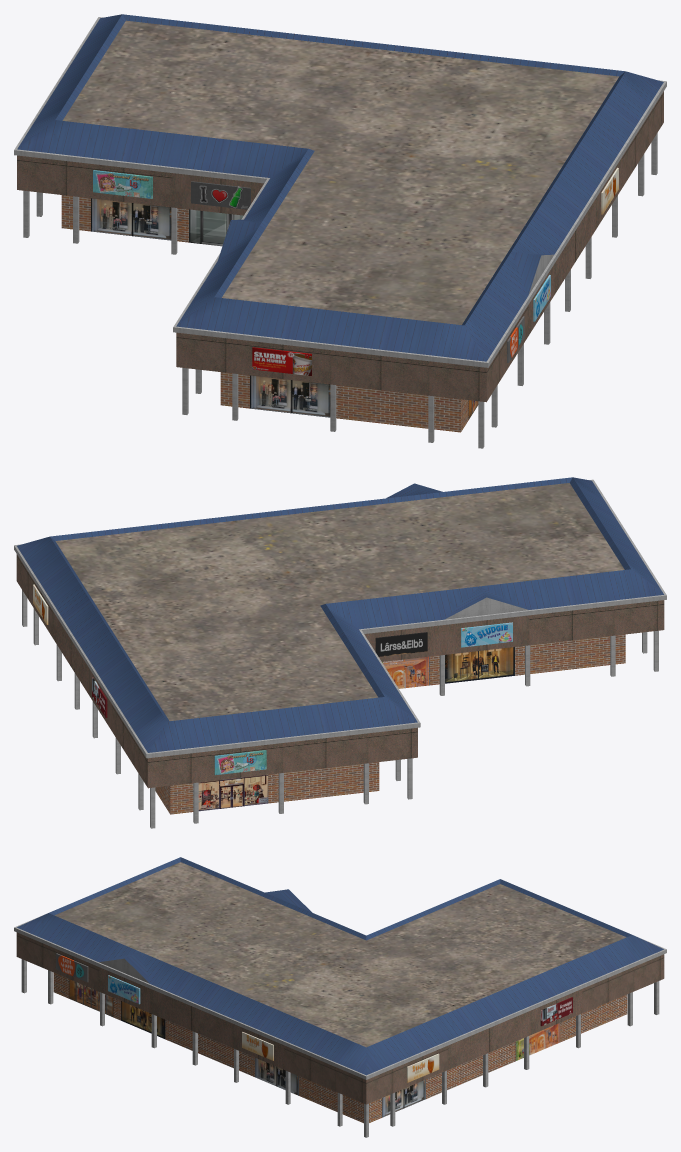
Rendered from Strip_Mall_04_1.FBX.
3 renders of one model, top to bottom at view 1: azimuth 30°, elevation 25°; view 2: azimuth 150°, elevation 25°; view 3: azimuth 270°, elevation 25°, orthographic. The views are drawn at different scales.
Parts seen in each view (by area): view 1: Strip_Mall_04_1; view 2: Strip_Mall_04_1; view 3: Strip_Mall_04_1.
Part boxes in pixels (box(x1,y1,x2,y2)): Strip_Mall_04_1: box(14, 14, 666, 448); Strip_Mall_04_1: box(14, 477, 666, 828); Strip_Mall_04_1: box(14, 857, 666, 1137).
Bounding box in the file's own units: 289 × 48.72 × 364.
